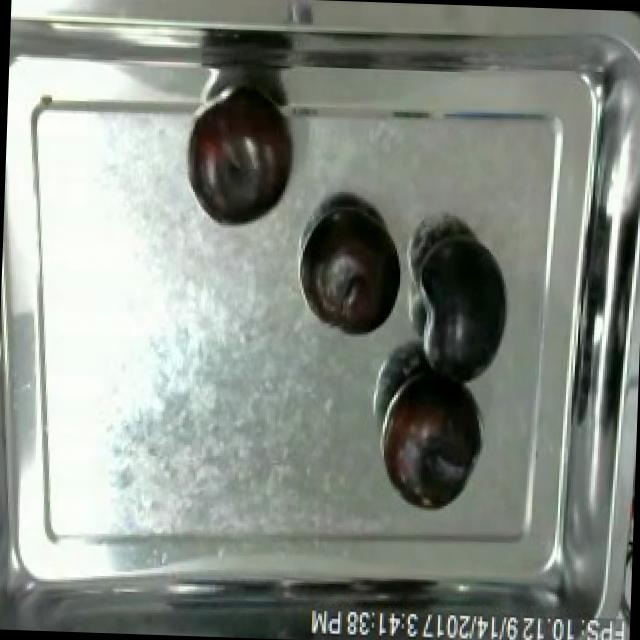Fruit: (409, 230, 514, 393), (185, 84, 298, 232), (376, 364, 488, 512), (301, 200, 406, 345)
